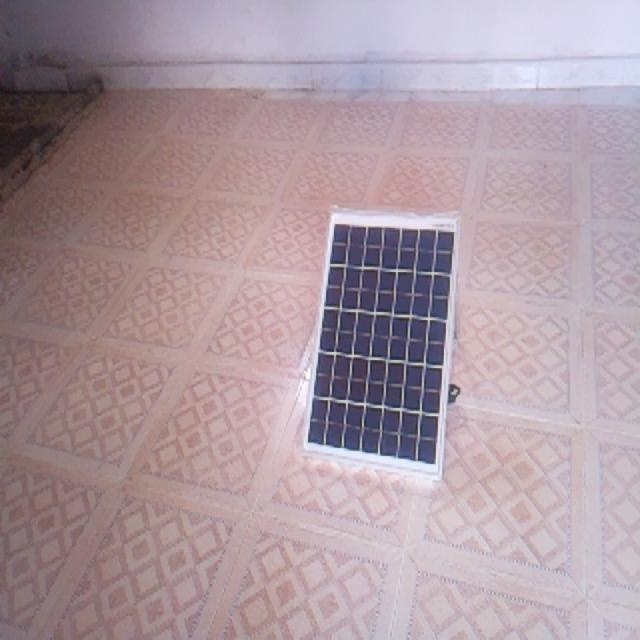Normal Solar Panel: (305, 211, 460, 480)
